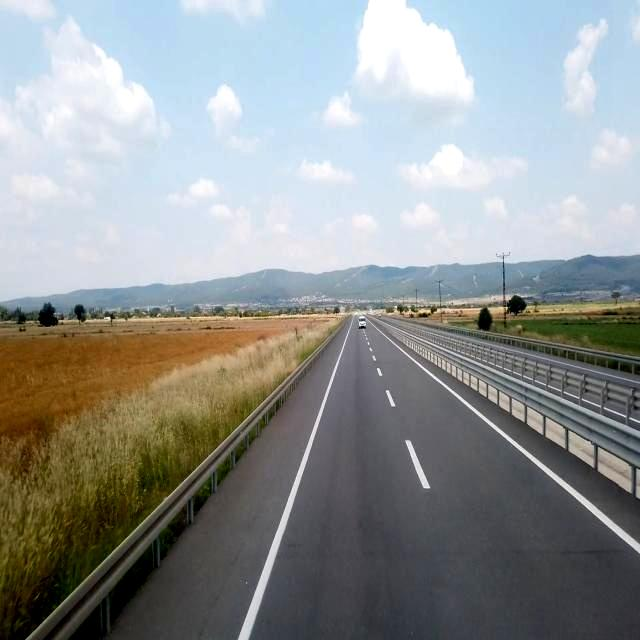lane: (375, 327, 640, 554), (238, 328, 349, 639), (406, 440, 430, 488), (387, 390, 395, 407)
road: (104, 320, 639, 639)
